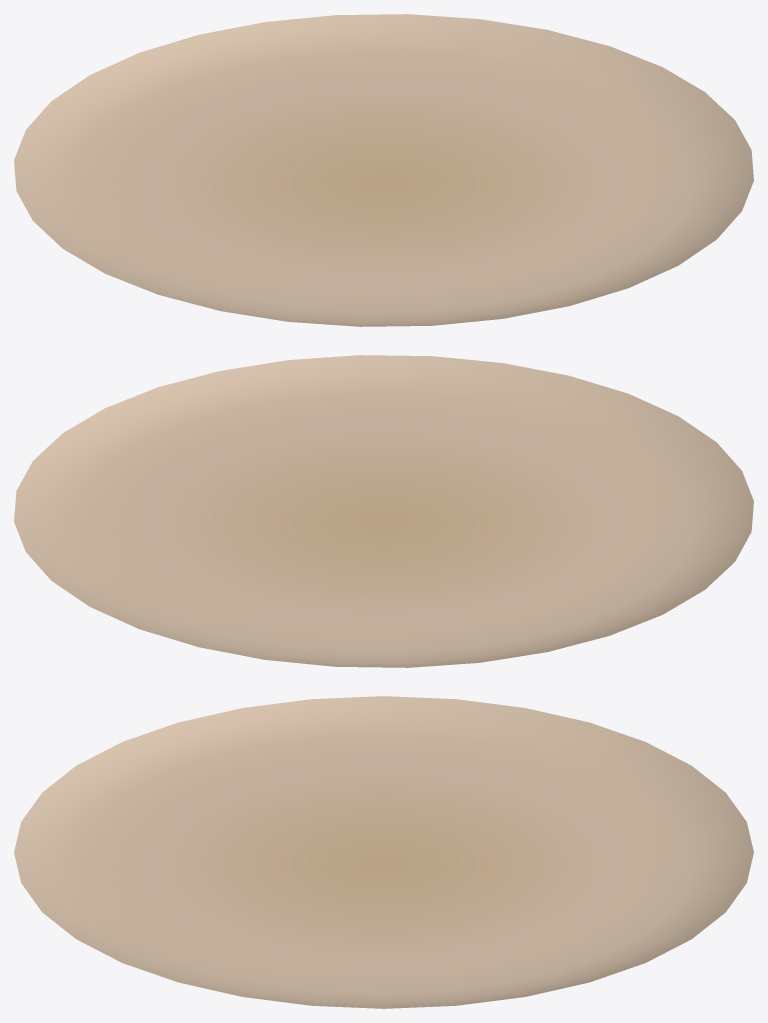
Rendered from Infinite grediant mesh2.fbx.
The picture shows the model from 3 angles, top to bottom: view 1: azimuth 30°, elevation 25°; view 2: azimuth 150°, elevation 25°; view 3: azimuth 270°, elevation 25°; orthographic projection.
Visible parts, largest first — view 1: Infinite Gradient meta 3; view 2: Infinite Gradient meta 3; view 3: Infinite Gradient meta 3.
Part boxes in pixels (x1,y1,x2,y2): Infinite Gradient meta 3: (14, 14, 753, 326); Infinite Gradient meta 3: (14, 355, 753, 667); Infinite Gradient meta 3: (14, 696, 753, 1008).
Bounding box in the file's own units: 4247 × 75.68 × 4247.
